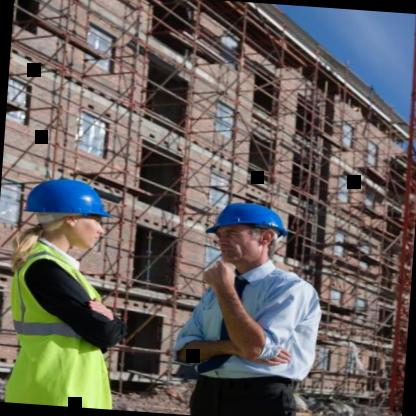helmet: (24, 170, 120, 264), (202, 187, 299, 275)
